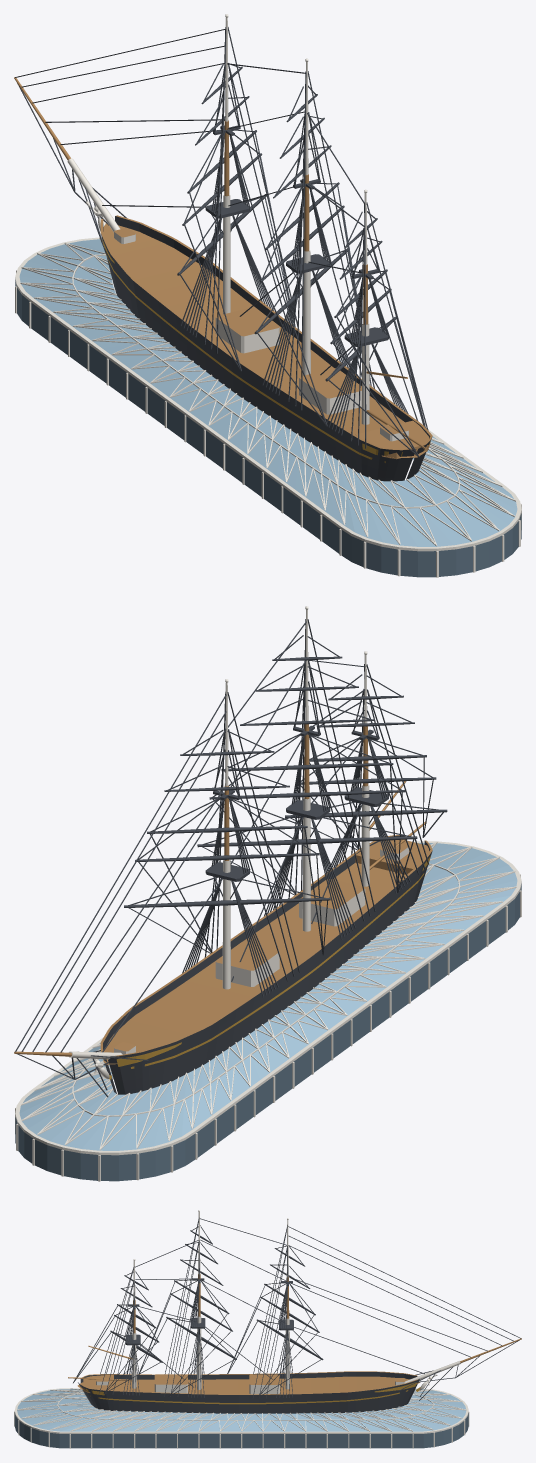
The model's file is london-cutty-sark.detail.glb.
The picture shows the model from 3 angles, top to bottom: view 1: azimuth 30°, elevation 25°; view 2: azimuth 150°, elevation 25°; view 3: azimuth 270°, elevation 25°; orthographic projection. The views are drawn at different scales.
Parts seen in each view (by area): view 1: Cutty Sark; view 2: Cutty Sark; view 3: Cutty Sark.
Boxes of the visible parts, box(x1,y1,x2,y2) form: Cutty Sark: box(14, 14, 521, 577); Cutty Sark: box(14, 606, 521, 1181); Cutty Sark: box(14, 1210, 521, 1448).
Bounding box in the file's own units: 20.88 × 46.62 × 99.35.
